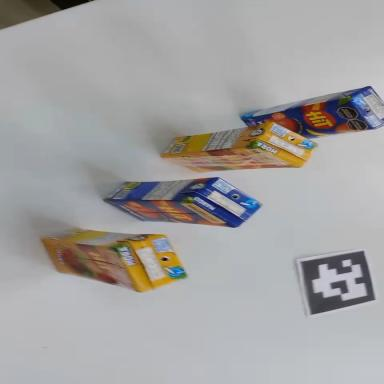HIT-MANGO: (240, 84, 384, 155), (103, 171, 262, 229)
HIT-MORA: (39, 227, 188, 294), (160, 120, 318, 173)
cara_F: (241, 95, 375, 146), (37, 239, 143, 293), (162, 144, 298, 176), (104, 200, 237, 228)
